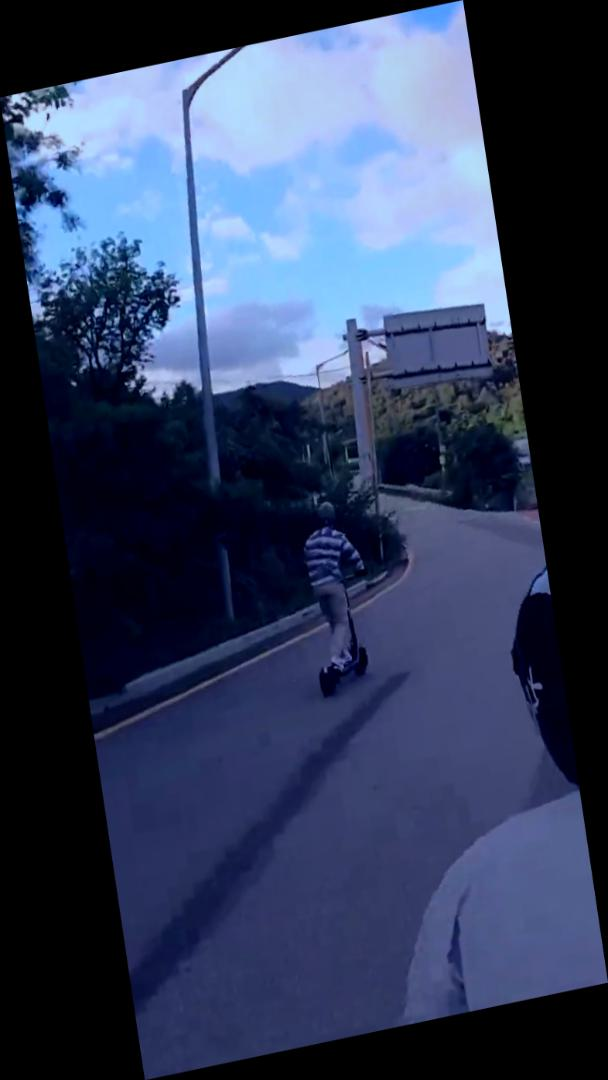helmet: (287, 492, 384, 702)
